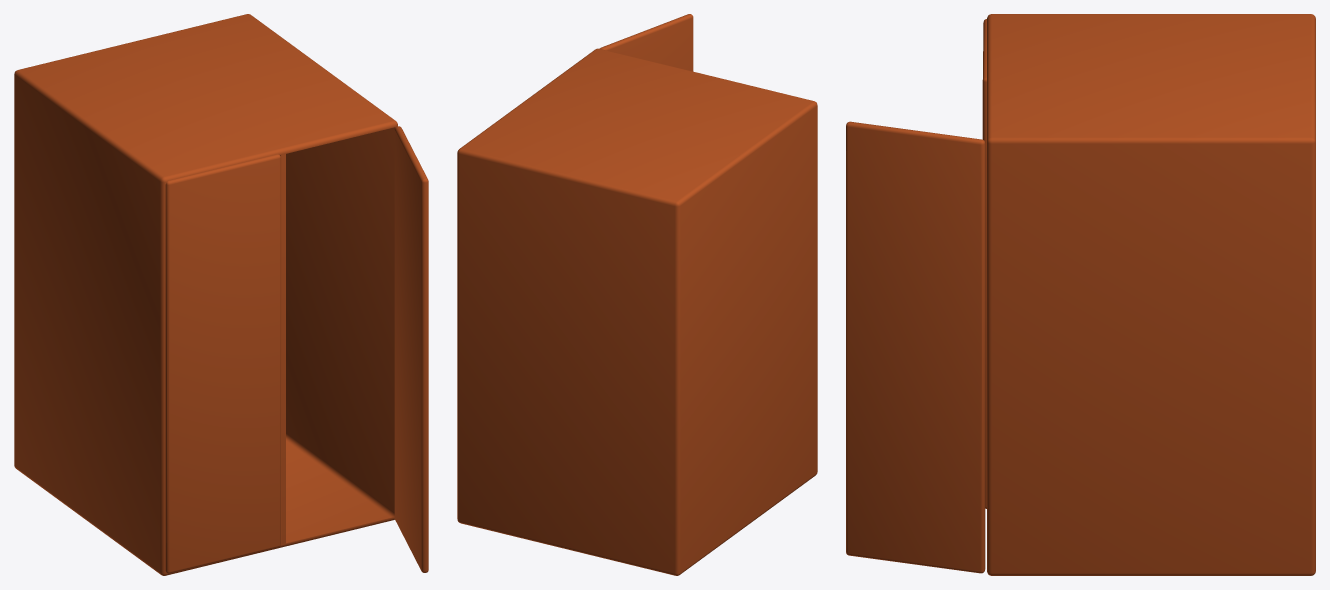
The model's file is Cupboard.fbx.
3 renders of one model, left to right at view 1: azimuth 30°, elevation 25°; view 2: azimuth 150°, elevation 25°; view 3: azimuth 270°, elevation 25°, orthographic. The views are drawn at different scales.
Visible parts, largest first — view 1: Cube.011, Cube.002, Cube.001; view 2: Cube.011, Cube.001; view 3: Cube.011, Cube.001, Cube.002.
Part boxes in pixels (bbox=[...]): Cube.011: bbox=[14, 14, 397, 575]; Cube.002: bbox=[165, 154, 280, 573]; Cube.001: bbox=[394, 126, 428, 572]; Cube.011: bbox=[457, 48, 817, 575]; Cube.001: bbox=[600, 14, 693, 71]; Cube.011: bbox=[987, 14, 1315, 575]; Cube.001: bbox=[846, 121, 985, 573]; Cube.002: bbox=[982, 19, 986, 508].
Size of the model in its own units: 73.03 by 117 by 114.
